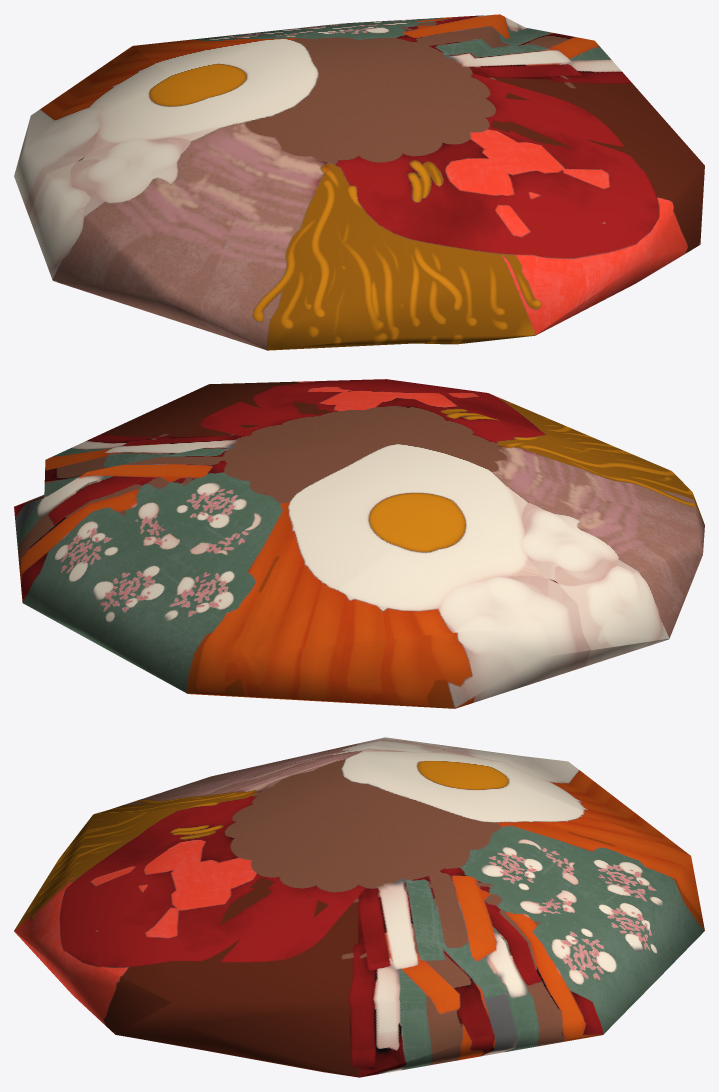
The model's file is food_001.fbx.
3 renders of one model, top to bottom at view 1: azimuth 30°, elevation 25°; view 2: azimuth 150°, elevation 25°; view 3: azimuth 270°, elevation 25°, orthographic. The views are drawn at different scales.
Visible parts, largest first — view 1: food_001_low; view 2: food_001_low; view 3: food_001_low.
Boxes of the visible parts, x1,y1,x2,y2 form: food_001_low: (14,14,704,350); food_001_low: (14,379,704,708); food_001_low: (14,737,704,1077).
Bounding box in the file's own units: 165 × 37.45 × 165.
